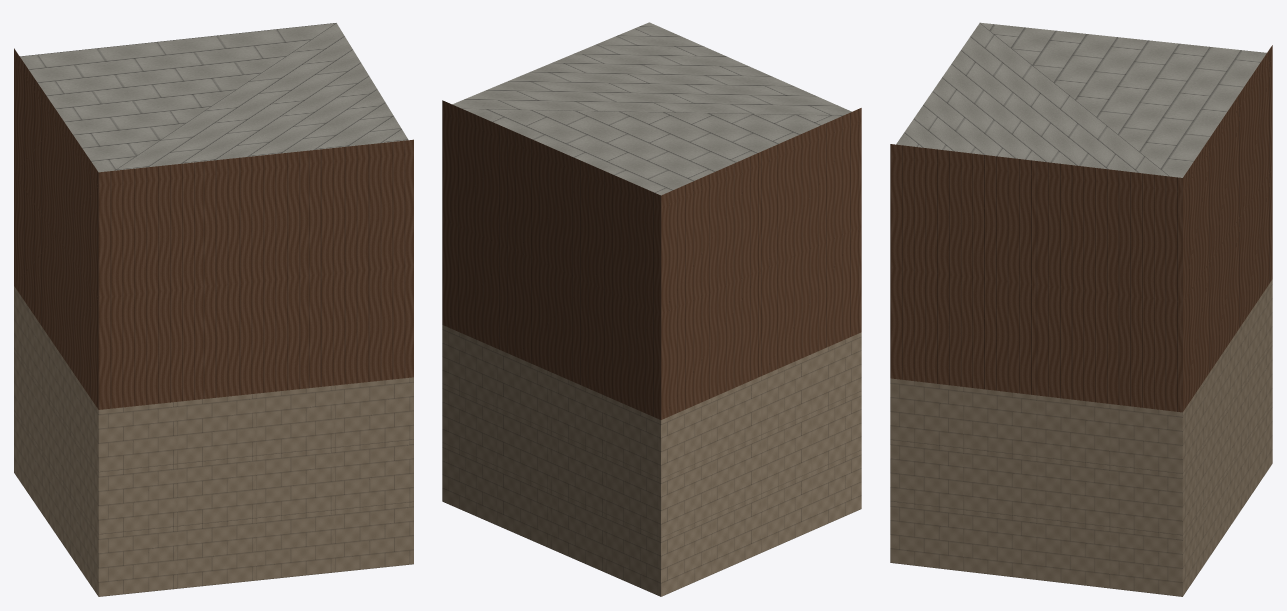
Rendered from bld_c8_8_501.gltf.
3 views of the same model, side by side, from view 1: azimuth 30°, elevation 25°; view 2: azimuth 150°, elevation 25°; view 3: azimuth 270°, elevation 25° (orthographic). The views are drawn at different scales.
Visible parts, largest first — view 1: bld_c8_8_501; view 2: bld_c8_8_501; view 3: bld_c8_8_501.
Boxes of the visible parts, x1,y1,x2,y2 form: bld_c8_8_501: (14,23,413,596); bld_c8_8_501: (442,22,861,596); bld_c8_8_501: (890,22,1272,596).
Bounding box in the file's own units: 9.72 × 11.58 × 9.57.
Materials: 4 (4 with a texture image).
